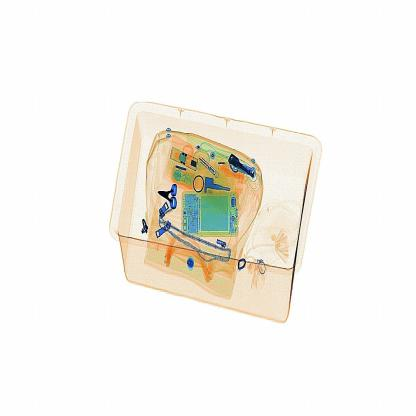gun: (150, 173, 188, 219)
